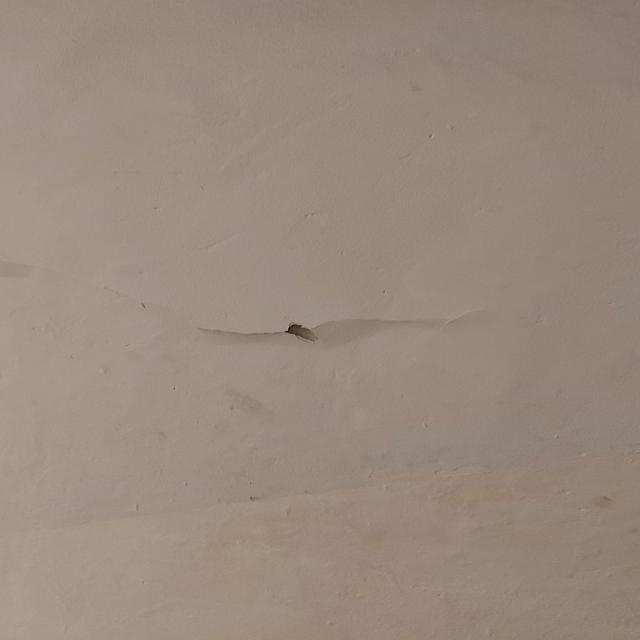Crack: (178, 313, 464, 344)
